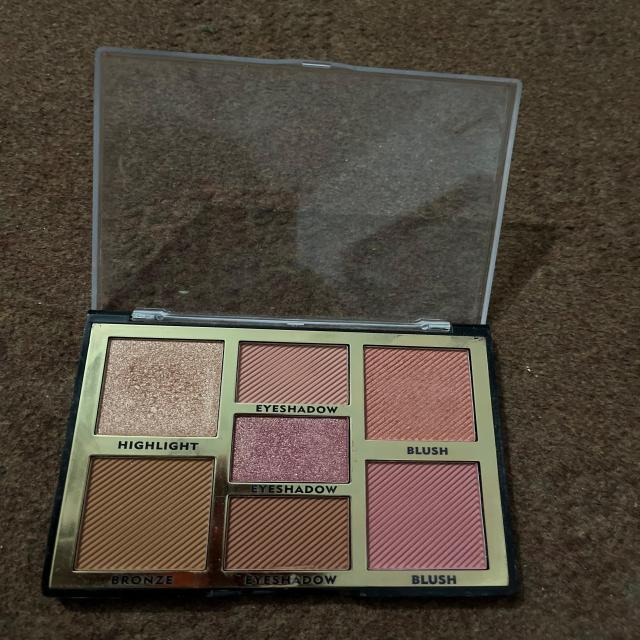blush: (358, 455, 492, 581), (360, 338, 479, 449)
bronzer: (72, 451, 216, 585)
eye shade: (223, 489, 359, 584), (227, 405, 353, 490), (235, 334, 358, 412)
highlighter: (77, 324, 230, 447)
